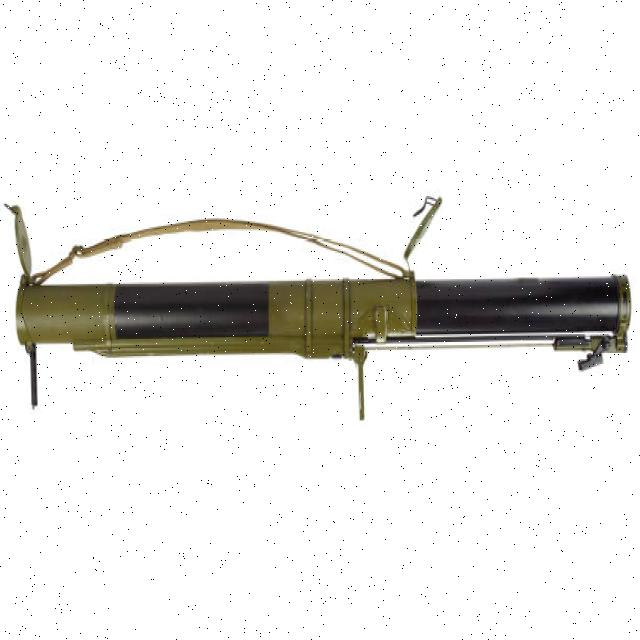bazooka: (1, 186, 636, 437)
